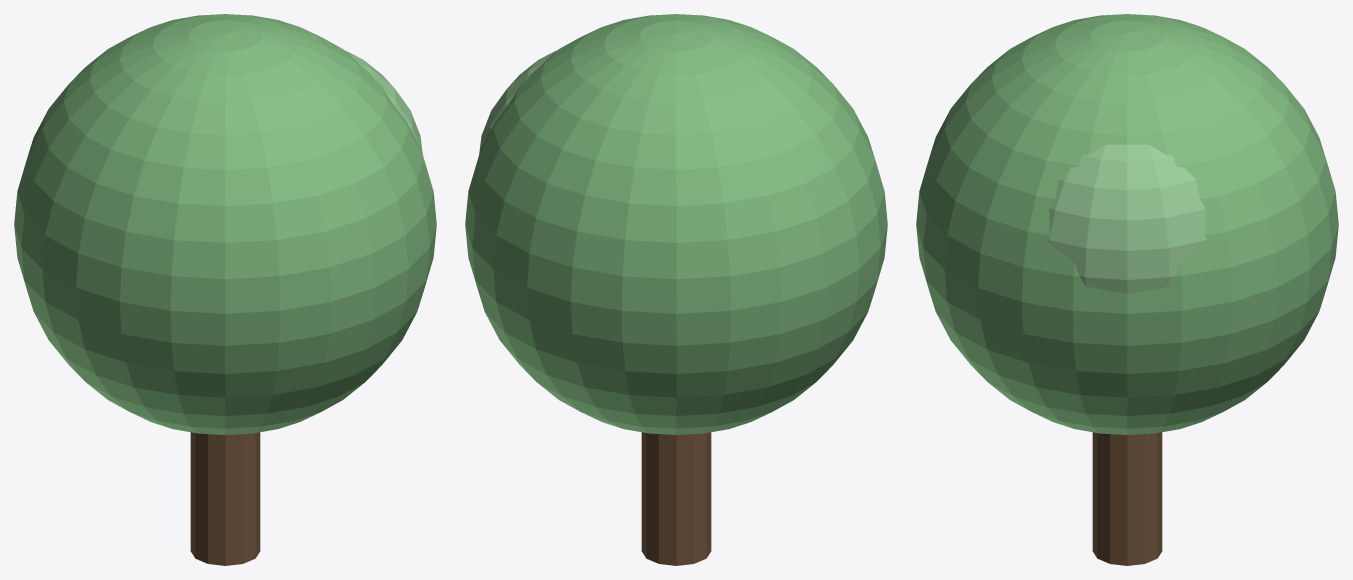
The model's file is tree_broad.glb.
The picture shows the model from 3 angles, left to right: view 1: azimuth 30°, elevation 25°; view 2: azimuth 150°, elevation 25°; view 3: azimuth 270°, elevation 25°; orthographic projection.
Visible parts, largest first — view 1: TreeBroad; view 2: TreeBroad; view 3: TreeBroad.
Part boxes in pixels (box(x1,y1,x2,y2)): TreeBroad: box(14, 14, 436, 565); TreeBroad: box(465, 14, 887, 565); TreeBroad: box(916, 14, 1338, 565).
Bounding box in the file's own units: 1.7 × 2.3 × 1.7.
